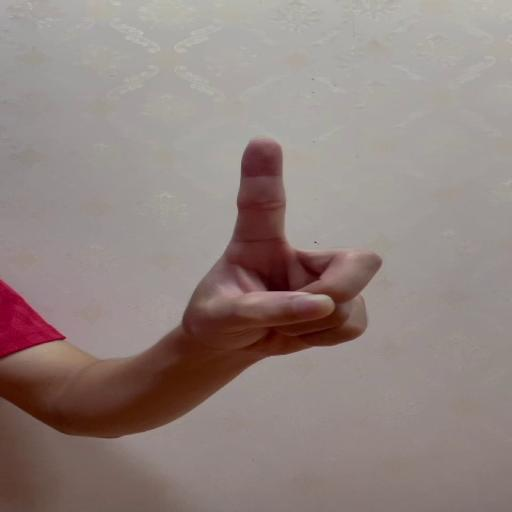point: (215, 136, 384, 358)
